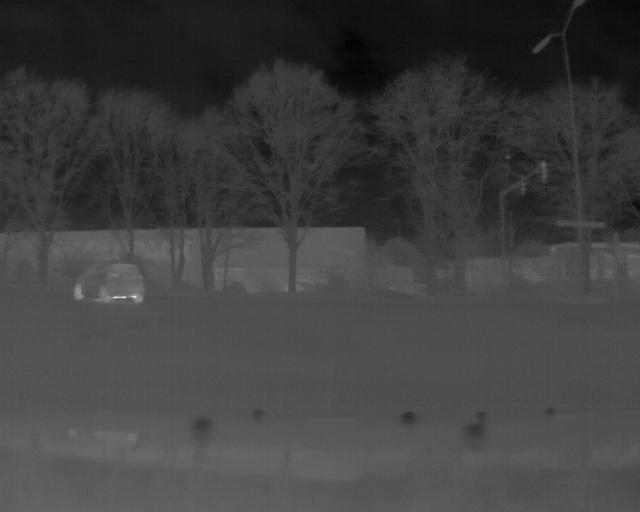car: (72, 260, 148, 306)
